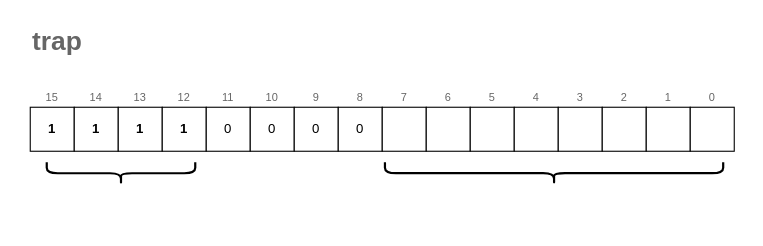
Image size: 763x246. Some labels were removed from this diagram. Here are the shapes that lost their labels. From the top down, the box of each, then its label:
(45, 161, 196, 185): OpCode
(383, 161, 724, 185): TRAPVECT
